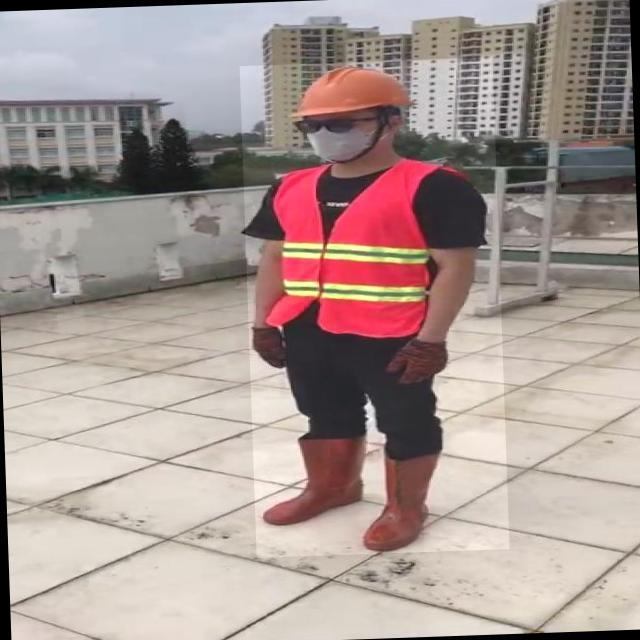Gloves: (382, 339, 449, 384), (253, 327, 286, 370)
Helmet: (292, 63, 409, 119)
Human: (239, 57, 509, 558)
Safety Boot: (260, 436, 366, 526), (359, 453, 442, 552)
Safety Vest: (261, 160, 443, 342)
